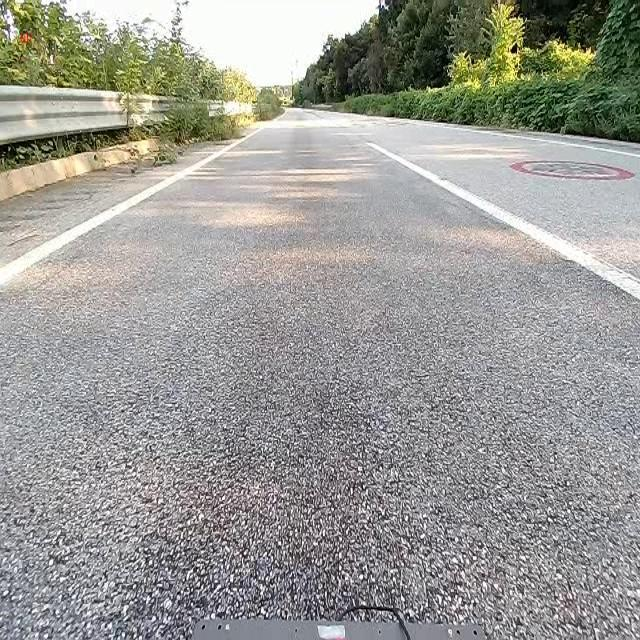Lane: (0, 100, 263, 288), (358, 132, 640, 305), (366, 143, 639, 299), (0, 128, 261, 291)
